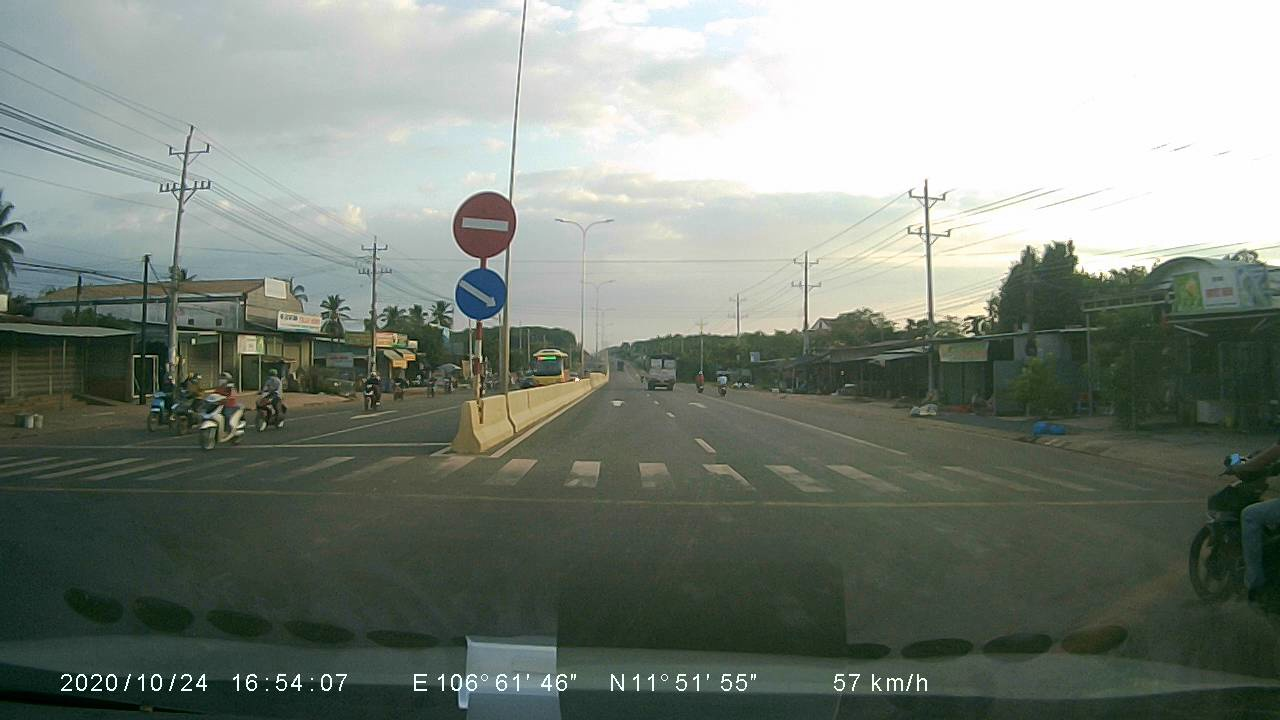Cam di nguoc chieu: (449, 190, 524, 259)
Huong di phai re phai: (453, 264, 510, 322)
